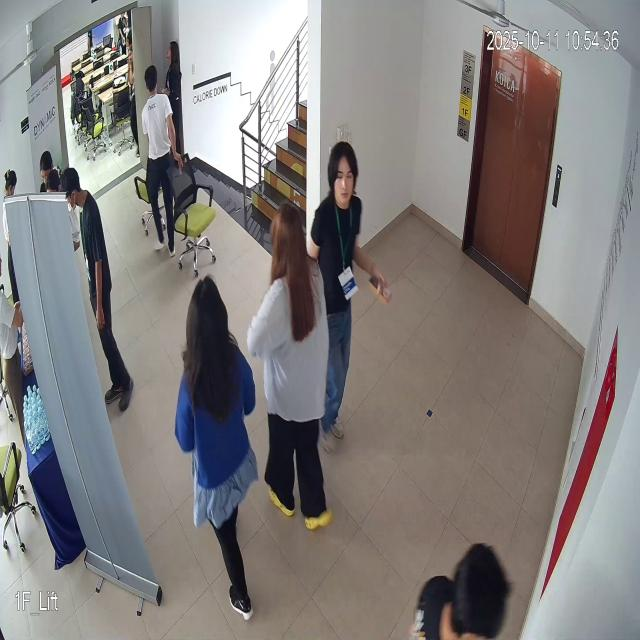face: (324, 136, 362, 220)
